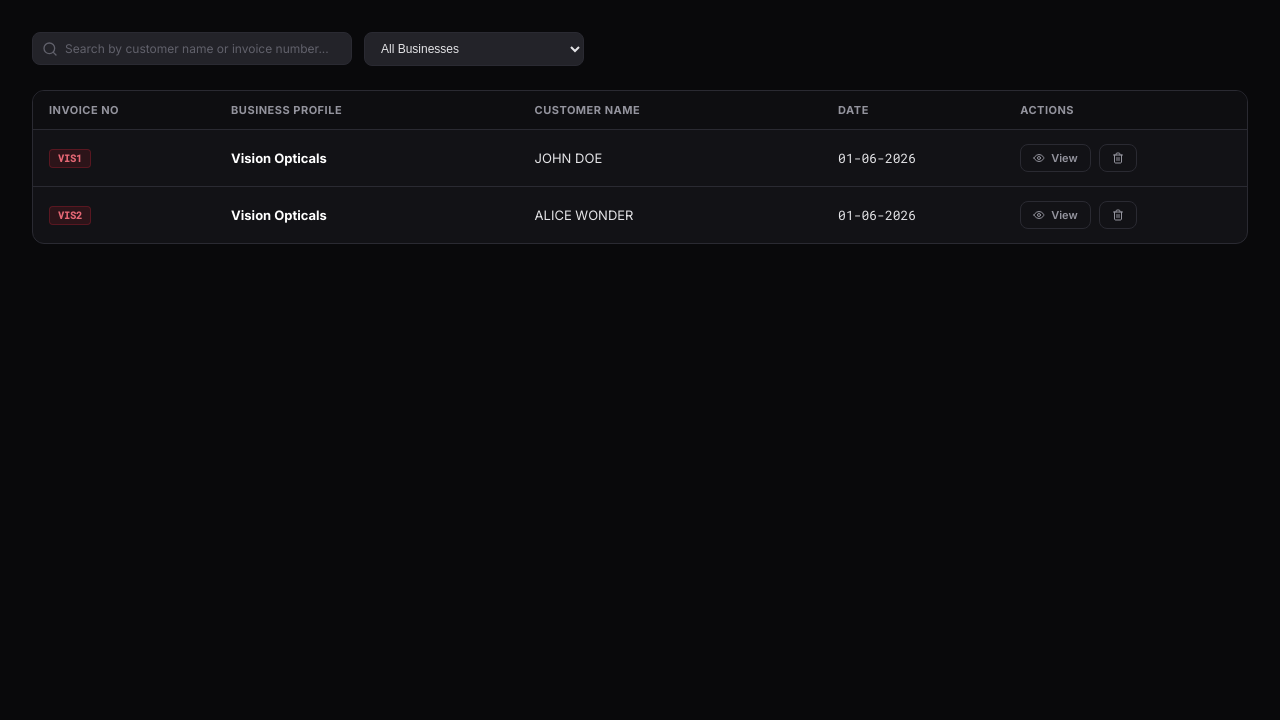
it: InvoiceHistory › IH8: Clicking ✕ (close) dismisses the invoice modal
Click the button "View" in the row of "VIS1" at (1055, 158), box [1020,144,1091,172]
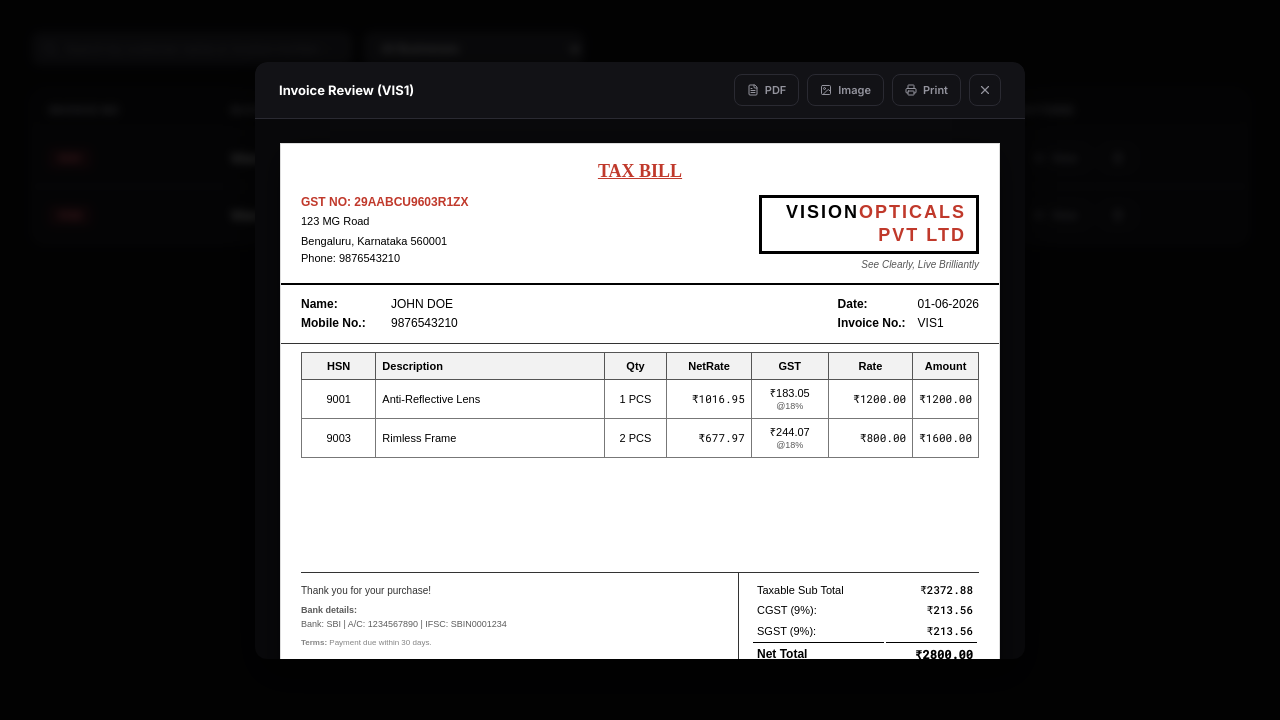
Expected: the heading "Invoice Review (VIS1)" is shown, [279,82,414,98]
# Alternatively, click the overlay
Click the element with class "modal-overlay" at (77, 360), box [0,0,1279,719]
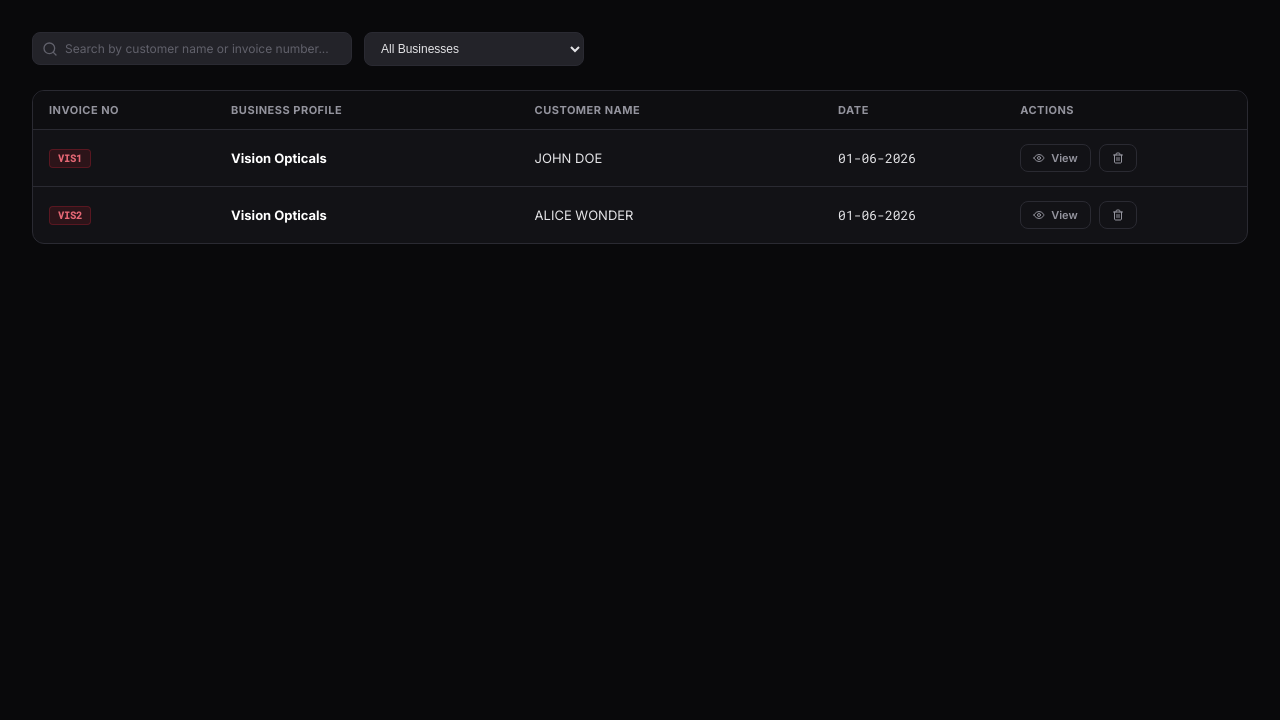
Expected: the heading "Invoice Review" is gone
